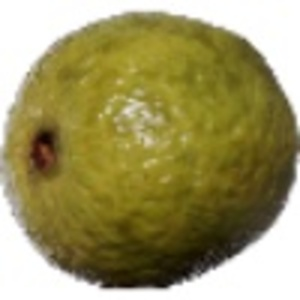goiaba: (3, 9, 295, 288)
